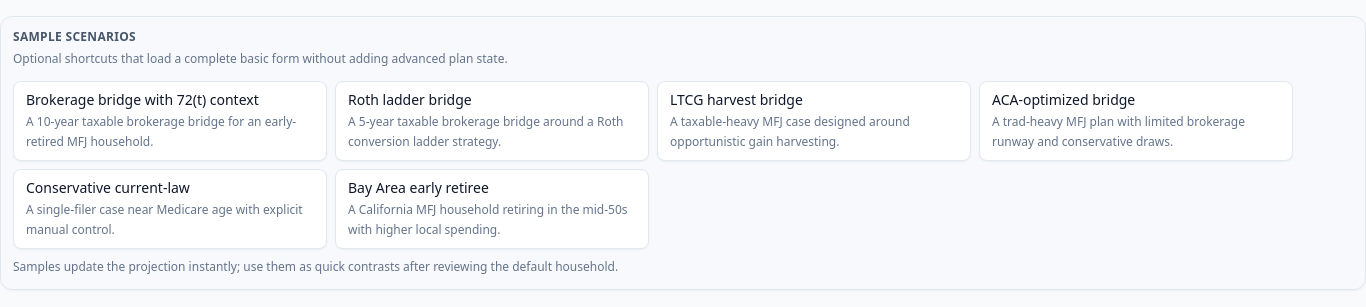
Test case: StarterTemplateChooser › loads LTCG harvest bridge into the scenario store and confirms the selection
The width and height of the screenshot is (1366, 307).
What coordinates should you click on to do the following:
click the button "LTCG harvest bridge"
I would click on:
 (814, 121)
Its box is [657,81,971,161].
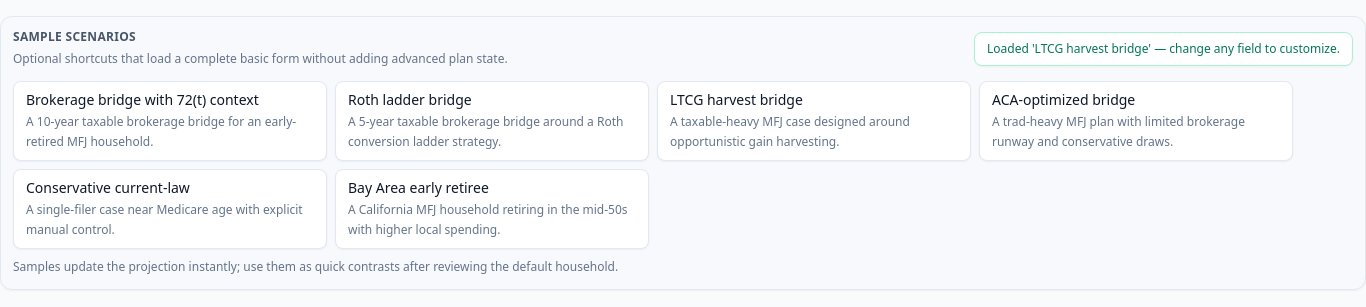
expect the message shows "change any field to customize": met, box [1148,40,1340,57]
